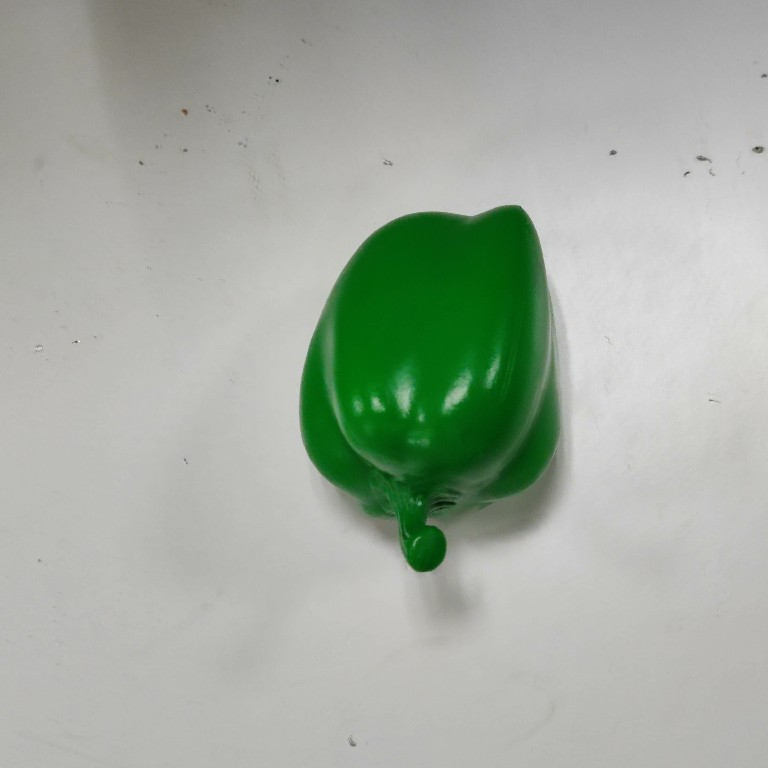fruit_pepper: (292, 193, 567, 574)
